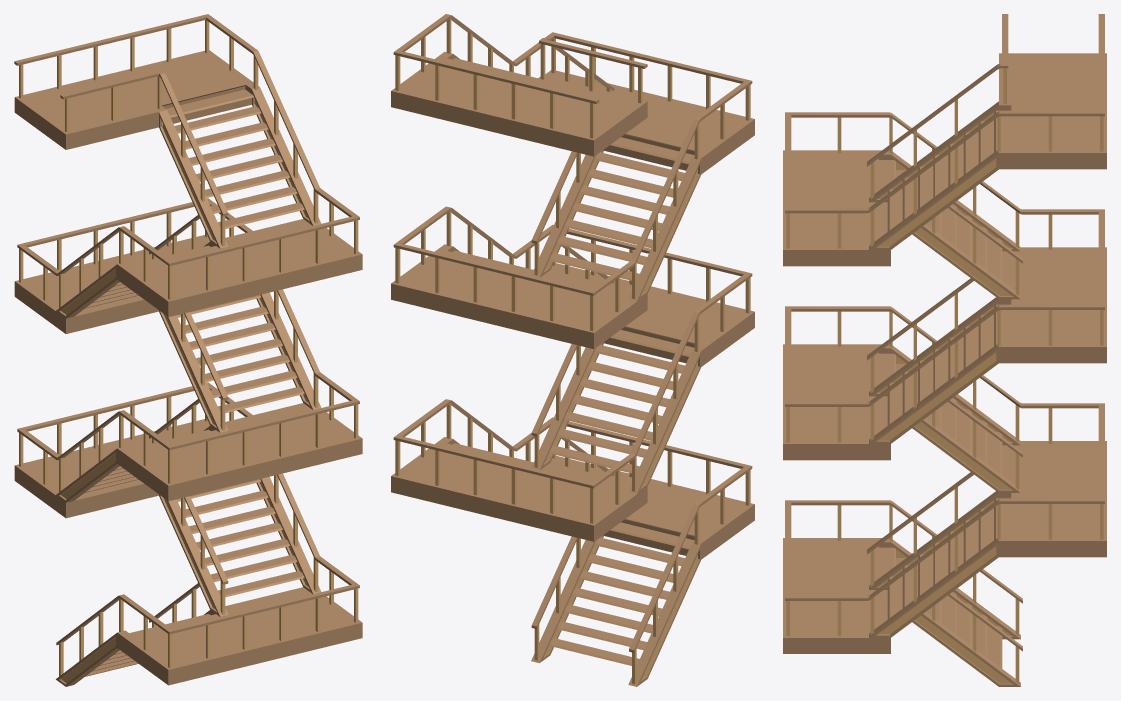
The model's file is stairs.glb.
The picture shows the model from 3 angles, left to right: view 1: azimuth 30°, elevation 25°; view 2: azimuth 150°, elevation 25°; view 3: azimuth 270°, elevation 25°; orthographic projection. The views are drawn at different scales.
Visible parts, largest first — view 1: Material2, Material22; view 2: Material2, Material22; view 3: Material2, Material22.
Boxes of the visible parts, x1,y1,x2,y2 form: Material2: [14, 14, 362, 686]; Material22: [19, 20, 358, 683]; Material2: [391, 14, 754, 686]; Material22: [395, 18, 750, 684]; Material2: [783, 14, 1106, 686]; Material22: [786, 68, 1103, 683].
Bounding box in the file's own units: 3.62 × 10.43 × 4.93.
